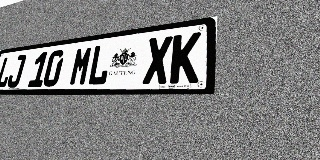0: (42, 49, 65, 87)
1: (28, 51, 50, 87)
J: (6, 54, 27, 88)
K: (169, 32, 201, 84)
L: (86, 43, 113, 86), (0, 56, 15, 88)
M: (68, 46, 94, 86)
X: (142, 35, 173, 84)
